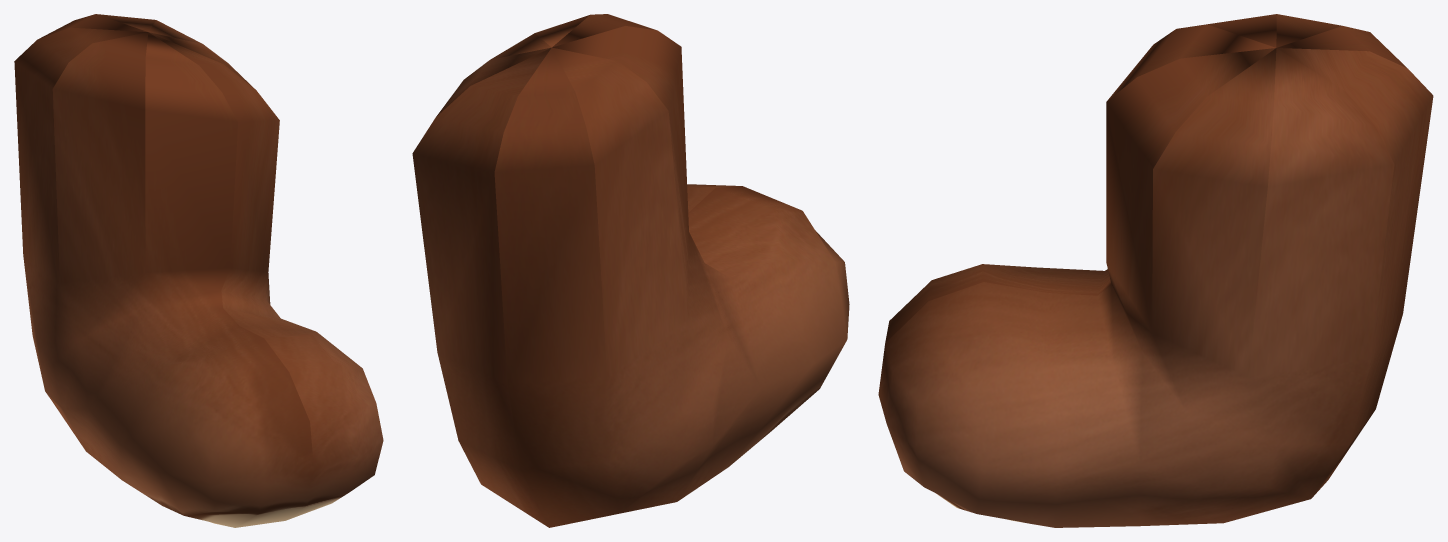
The model's file is R_bearLeg.fbx.
3 views of the same model, side by side, from view 1: azimuth 30°, elevation 25°; view 2: azimuth 150°, elevation 25°; view 3: azimuth 270°, elevation 25° (orthographic). The views are drawn at different scales.
Visible parts, largest first — view 1: R_bearLeg; view 2: R_bearLeg; view 3: R_bearLeg.
Part boxes in pixels (left/top/right/bottom): R_bearLeg: left=14, top=14, right=383, bottom=527; R_bearLeg: left=412, top=14, right=849, bottom=527; R_bearLeg: left=878, top=14, right=1433, bottom=527.
Bounding box in the file's own units: 10.58 × 18.23 × 19.58.
